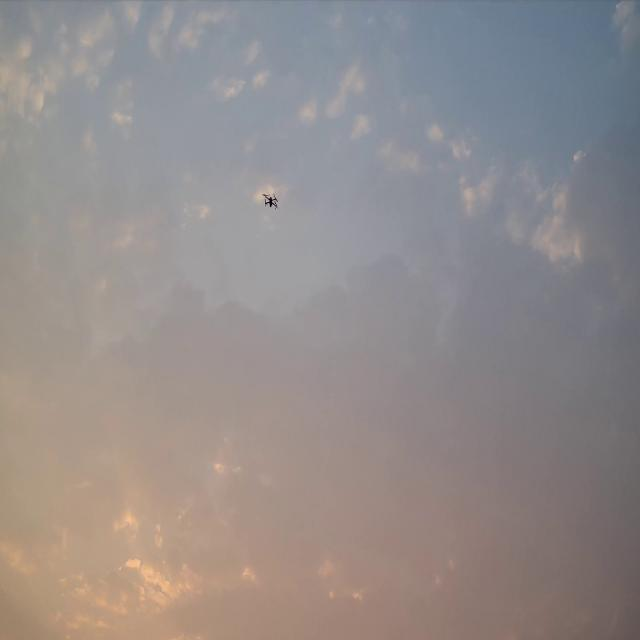UAV: (262, 192, 279, 210)
